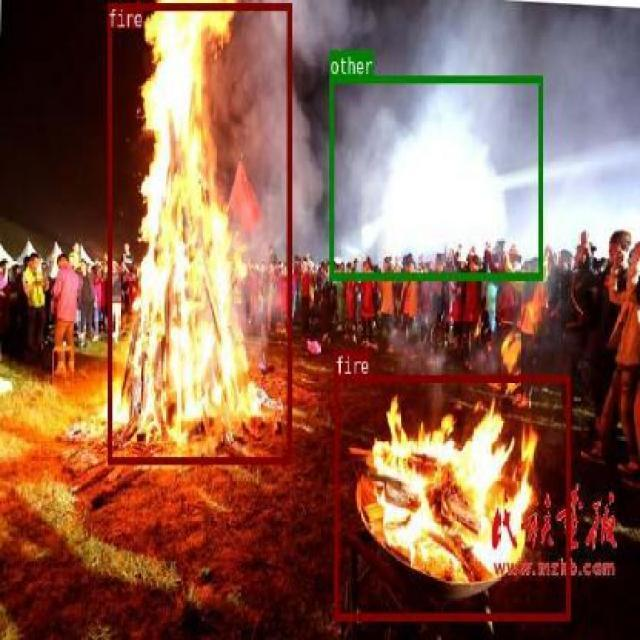Fire: (107, 1, 290, 462), (333, 374, 570, 620)
Smoke: (283, 0, 640, 261)
